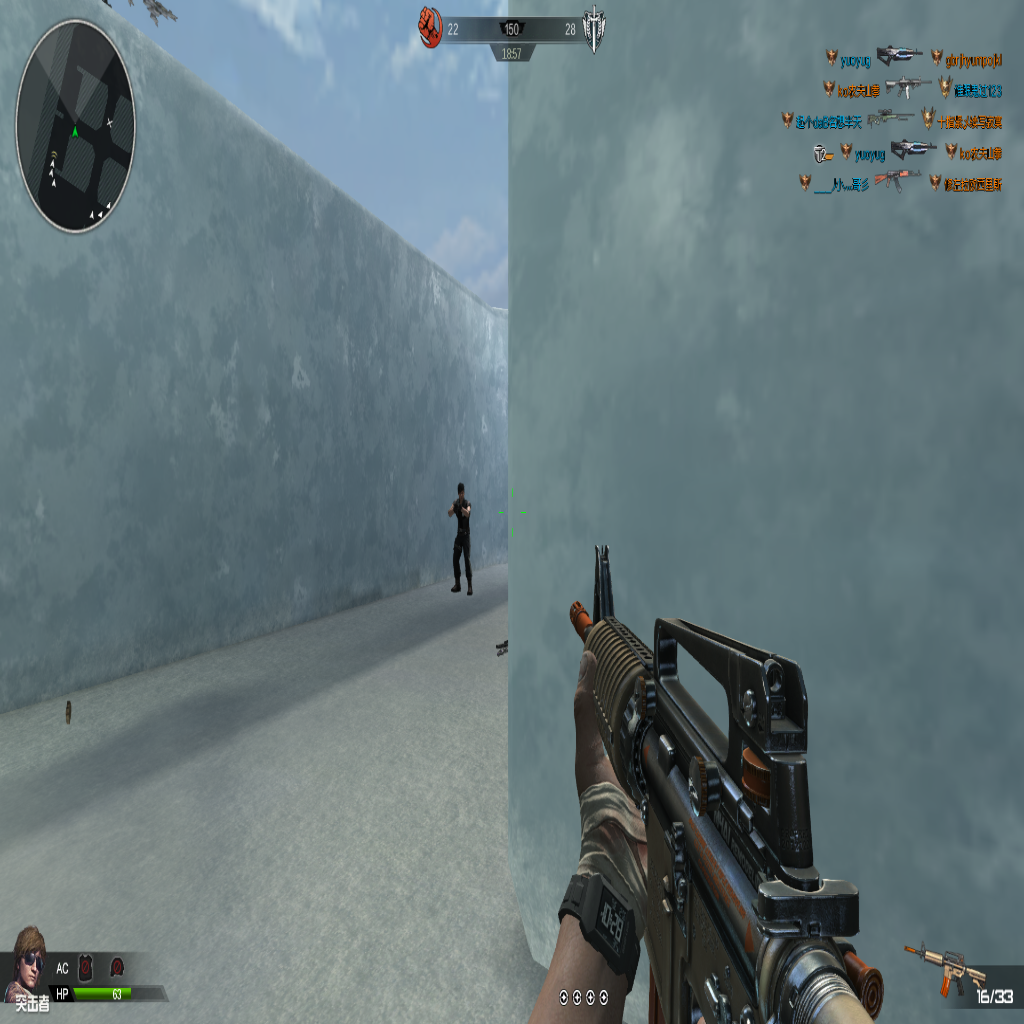ct: (449, 480, 472, 596)
